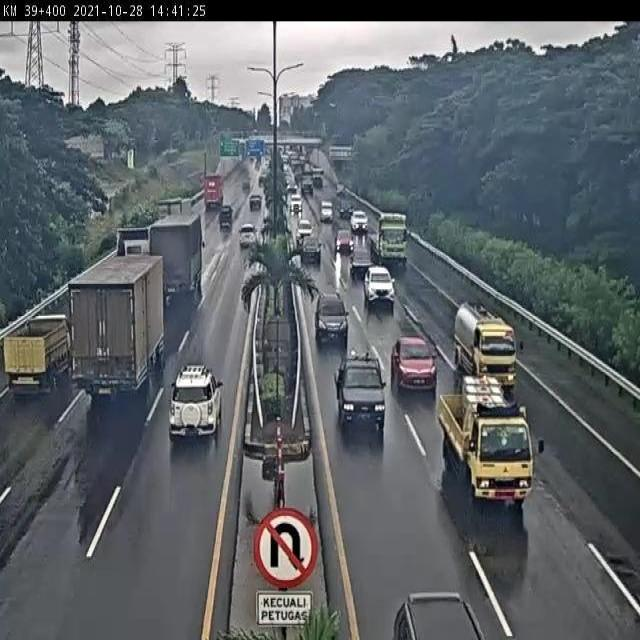Car: (169, 363, 224, 442), (391, 336, 439, 396), (314, 295, 349, 347), (363, 266, 396, 308), (335, 230, 354, 256), (349, 210, 368, 234), (239, 223, 257, 248), (218, 205, 233, 231), (296, 219, 312, 240), (290, 192, 302, 215), (320, 201, 333, 222)
Truck: (67, 253, 165, 409), (438, 382, 536, 508), (455, 300, 517, 394), (3, 316, 72, 399), (150, 212, 202, 310), (334, 352, 388, 439), (372, 211, 408, 271), (350, 237, 372, 280), (202, 173, 224, 210), (301, 236, 321, 265), (339, 201, 353, 220), (249, 194, 262, 211)
